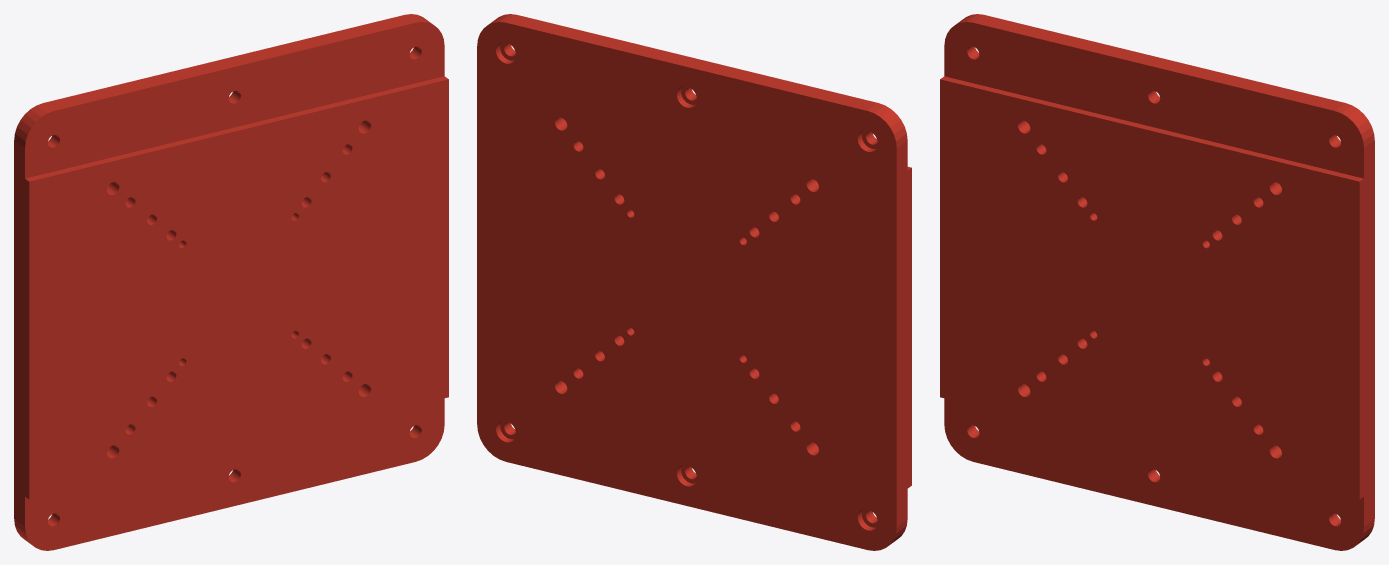
File: Robot Plate Rev3 v27.dae
3 views of the same model, side by side, from view 1: azimuth 30°, elevation 25°; view 2: azimuth 150°, elevation 25°; view 3: azimuth 330°, elevation 25° (orthographic).
Visible parts, largest first — view 1: node0; view 2: node0; view 3: node0.
Part boxes in pixels (x1,y1,x2,y2): node0: (14, 14, 448, 550); node0: (477, 14, 911, 550); node0: (940, 14, 1374, 550).
Size of the model in its own units: 0.29 by 0.018 by 0.29.
